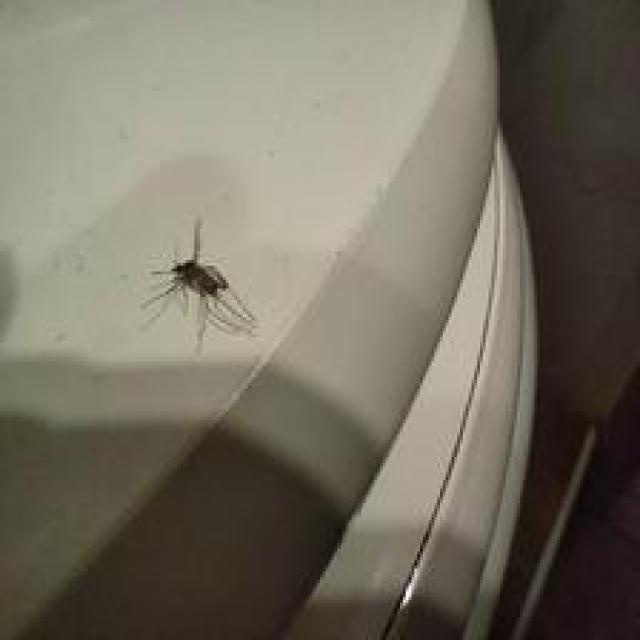Culex: (137, 218, 260, 353)
